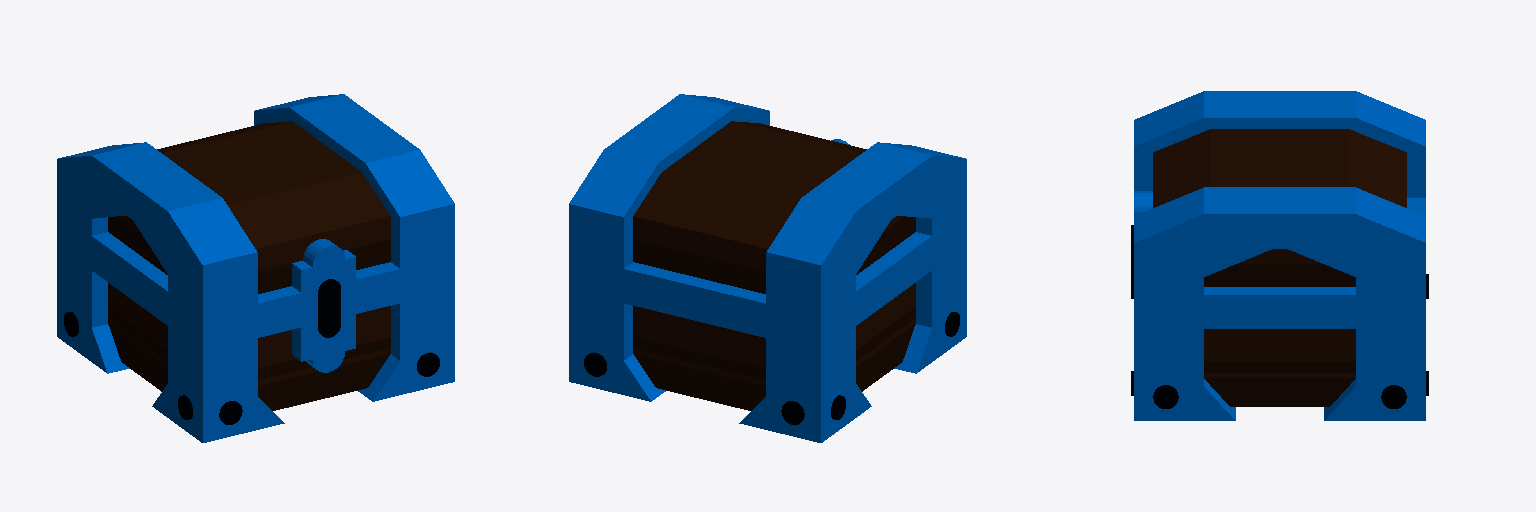
File: chest4.obj
The picture shows the model from 3 angles: view 1: azimuth 30°, elevation 25°; view 2: azimuth 150°, elevation 25°; view 3: azimuth 270°, elevation 25°; orthographic projection.
Parts seen in each view (by area): view 1: Part14, Part13, Part8, Part27, Wedge18, Part10, Part11, Part28, Part5, Part18, Wedge7, Wedge8 (+12 smaller); view 2: Part27, Part11, Part8, Part12, Wedge5, Part10, Part14, Part9, Part28, Part5, Part7, Wedge1 (+9 smaller); view 3: Part12, Part13, Part28, Part8, Part27, Part10, Part9, Part5, Wedge18, Wedge5, Part7, Wedge2 (+12 smaller).
Part boxes in pixels (left/top/right/bottom): Part14: left=168, top=240, right=257, bottom=442; Part13: left=384, top=204, right=454, bottom=394; Part8: left=162, top=121, right=360, bottom=204; Part27: left=57, top=211, right=399, bottom=342; Wedge18: left=228, top=172, right=389, bottom=248; Part10: left=92, top=142, right=221, bottom=244; Part11: left=57, top=159, right=107, bottom=361; Part28: left=289, top=94, right=419, bottom=175; Part5: left=108, top=324, right=389, bottom=410; Part18: left=292, top=250, right=355, bottom=361; Wedge7: left=168, top=198, right=256, bottom=264; Wedge8: left=365, top=150, right=454, bottom=216; Part27: left=569, top=216, right=966, bottom=350; Part11: left=766, top=240, right=855, bottom=442; Part8: left=663, top=121, right=861, bottom=204; Part12: left=569, top=204, right=639, bottom=394; Wedge5: left=634, top=172, right=795, bottom=248; Part10: left=802, top=142, right=931, bottom=244; Part14: left=916, top=159, right=966, bottom=361; Part9: left=633, top=283, right=915, bottom=368; Part28: left=604, top=94, right=734, bottom=175; Part5: left=634, top=324, right=915, bottom=410; Part7: left=633, top=216, right=915, bottom=293; Wedge1: left=767, top=198, right=855, bottom=264; Part12: left=1356, top=243, right=1425, bottom=420; Part13: left=1134, top=243, right=1203, bottom=420; Part28: left=1204, top=187, right=1355, bottom=248; Part8: left=1210, top=129, right=1349, bottom=186; Part27: left=1134, top=198, right=1425, bottom=328; Part10: left=1204, top=91, right=1355, bottom=131; Part9: left=1204, top=329, right=1355, bottom=360; Part5: left=1204, top=378, right=1355, bottom=406; Wedge18: left=1153, top=130, right=1209, bottom=207; Wedge5: left=1350, top=130, right=1406, bottom=207; Part7: left=1204, top=264, right=1355, bottom=286; Wedge2: left=1356, top=188, right=1425, bottom=242.
Bounding box in the file's own units: 4.7 × 3.6 × 4.7.